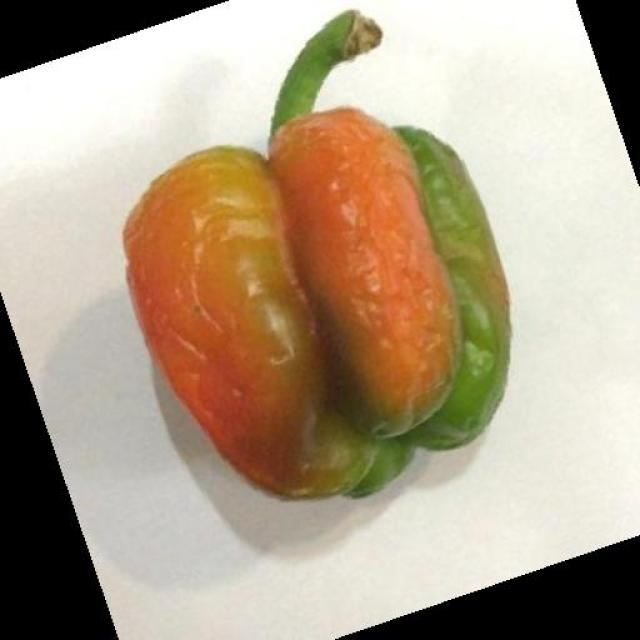Stale_Capsicum: (135, 67, 534, 467)
